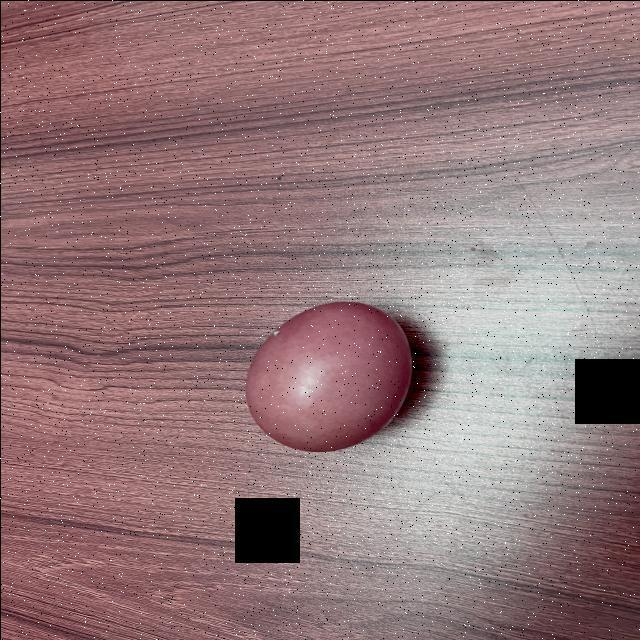egg: (233, 298, 423, 458)
